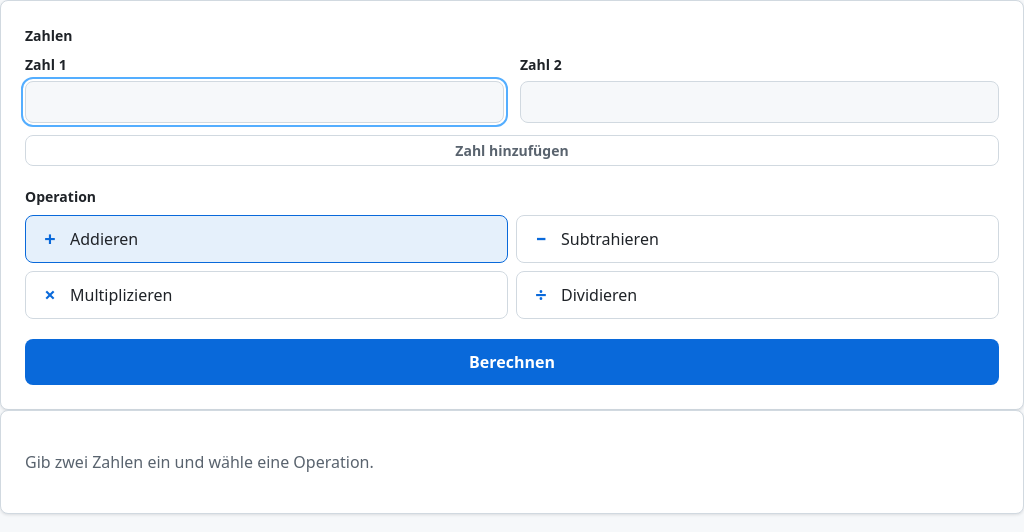
Test: Calculator › shows the API error message
Type "1" into the field labelled "Zahl 1" at (264, 102), box left=25, top=81, right=504, bottom=123
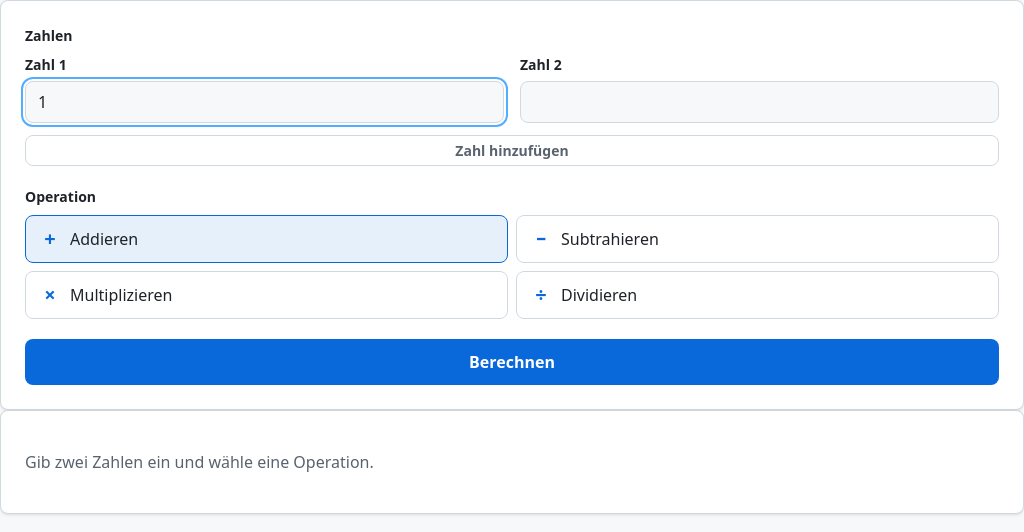
Type "0" into the field labelled "Zahl 2" at (760, 102), box left=520, top=81, right=999, bottom=123
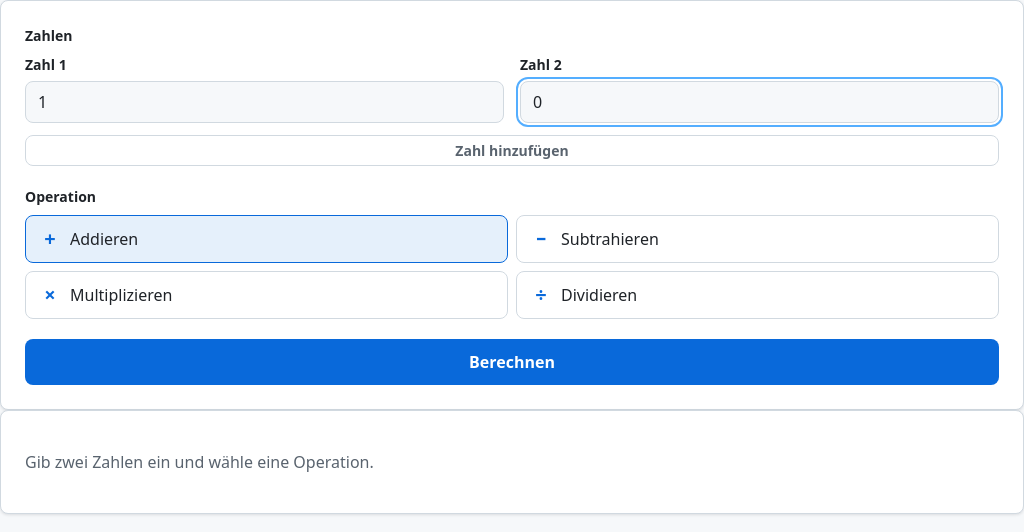
Click the radio button labelled "Dividieren" at (599, 295), box left=516, top=271, right=999, bottom=319
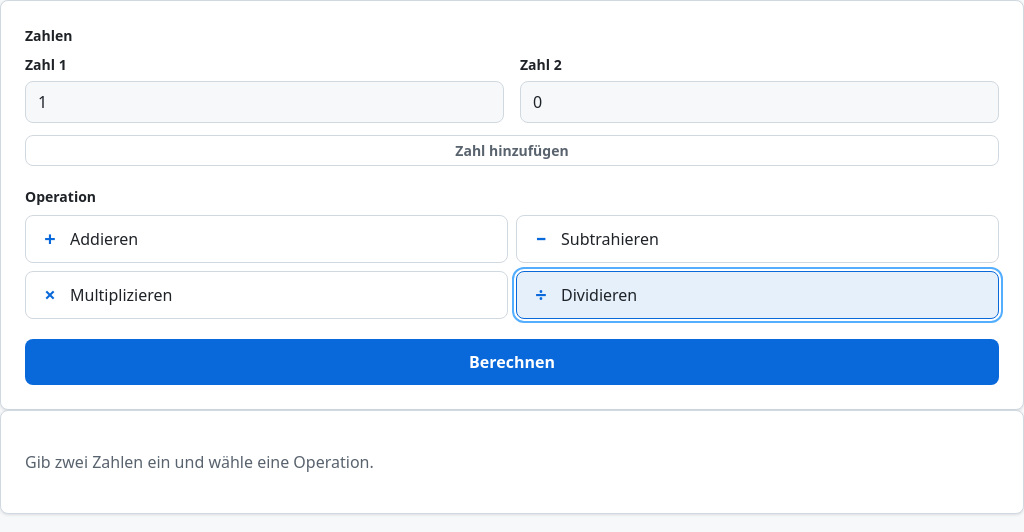
Click the button "Berechnen" at (512, 362), box left=25, top=339, right=999, bottom=385
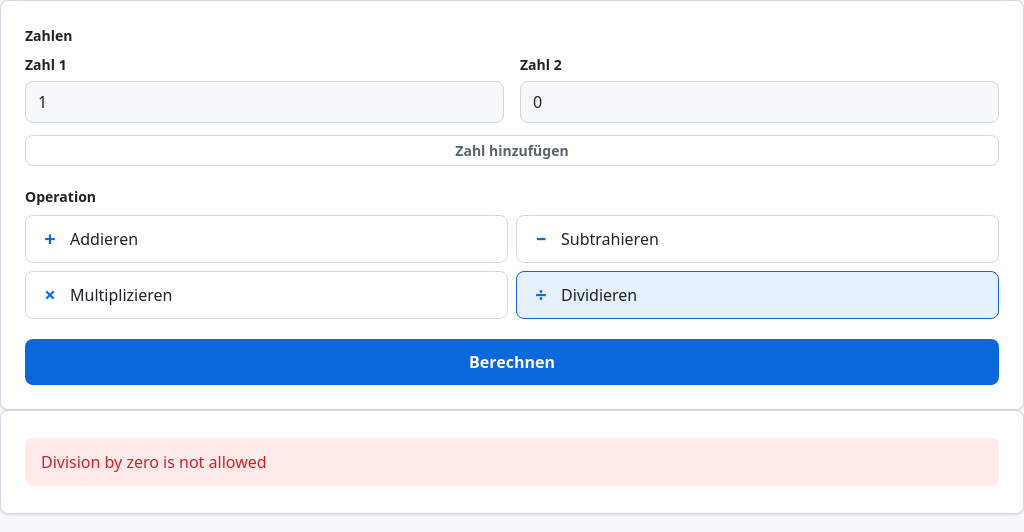
Now the message reads "Division by zero is not allowed", box left=41, top=451, right=267, bottom=473
